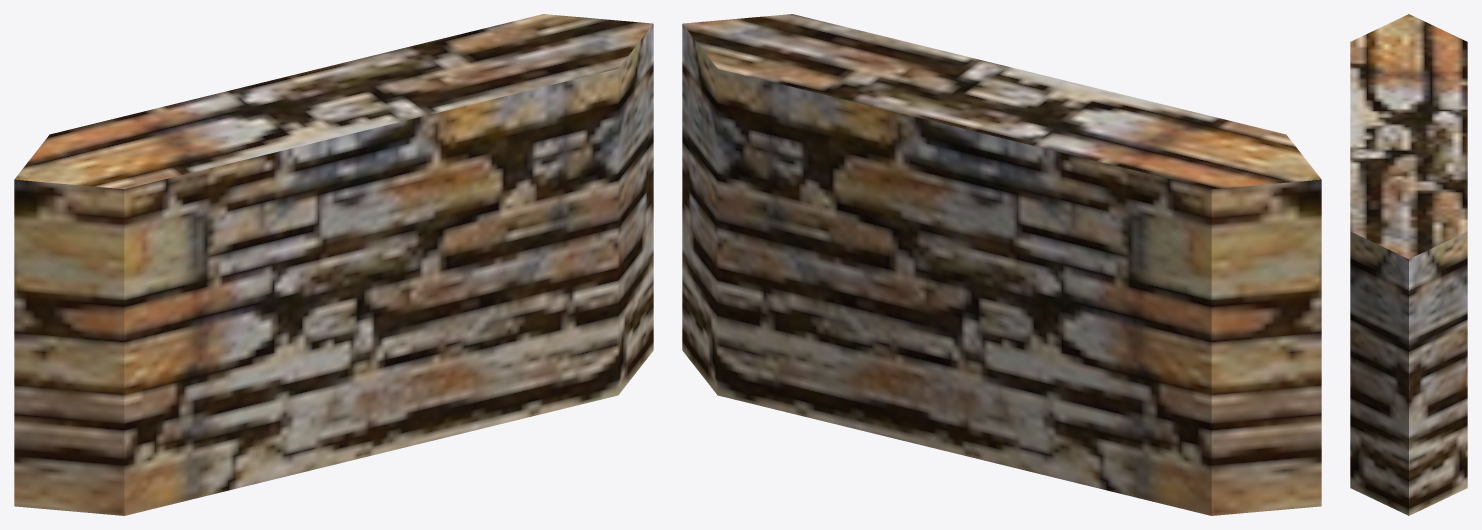
Rendered from stoneWall.gltf.
3 renders of one model, left to right at view 1: azimuth 30°, elevation 25°; view 2: azimuth 150°, elevation 25°; view 3: azimuth 270°, elevation 25°, orthographic. The views are drawn at different scales.
Parts seen in each view (by area): view 1: Stonewall; view 2: Stonewall; view 3: Stonewall.
Boxes of the visible parts, left/top/right/bottom form: Stonewall: left=14, top=14, right=653, bottom=515; Stonewall: left=682, top=14, right=1321, bottom=515; Stonewall: left=1350, top=14, right=1467, bottom=515.
Size of the model in its own units: 1.96 by 0.9555 by 0.3963.
1 material, 1 textured.
